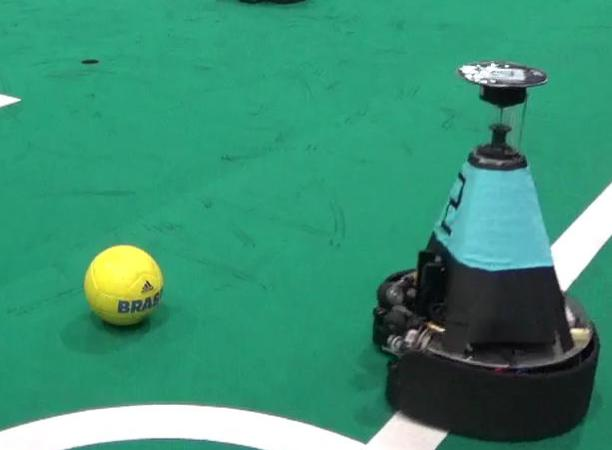robot: (366, 50, 604, 441)
